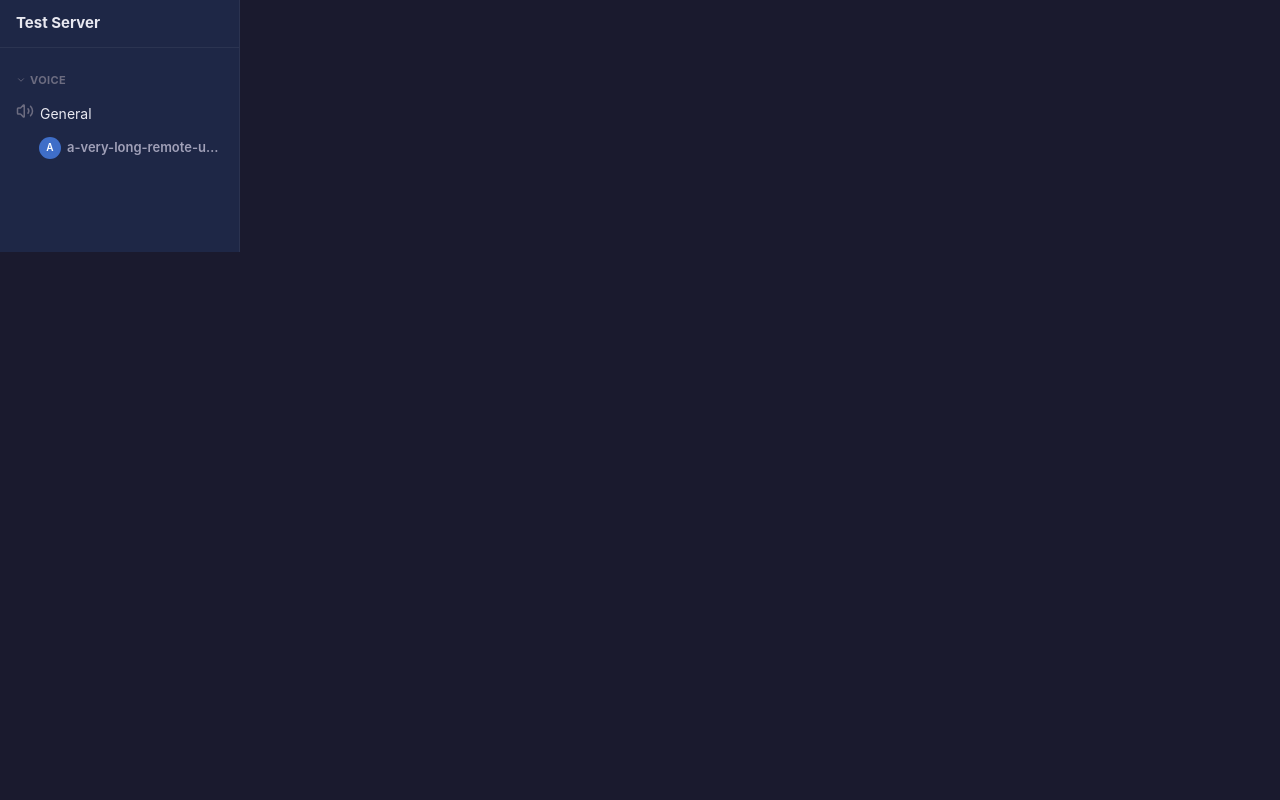
Scenario: ChannelSidebar voice media presence › opens the shared profile dialog and its member actions from a voice participant context menu
Step 1. Right-click the text "a-very-long-remote-username" → (146, 148), box [67,138,224,157]
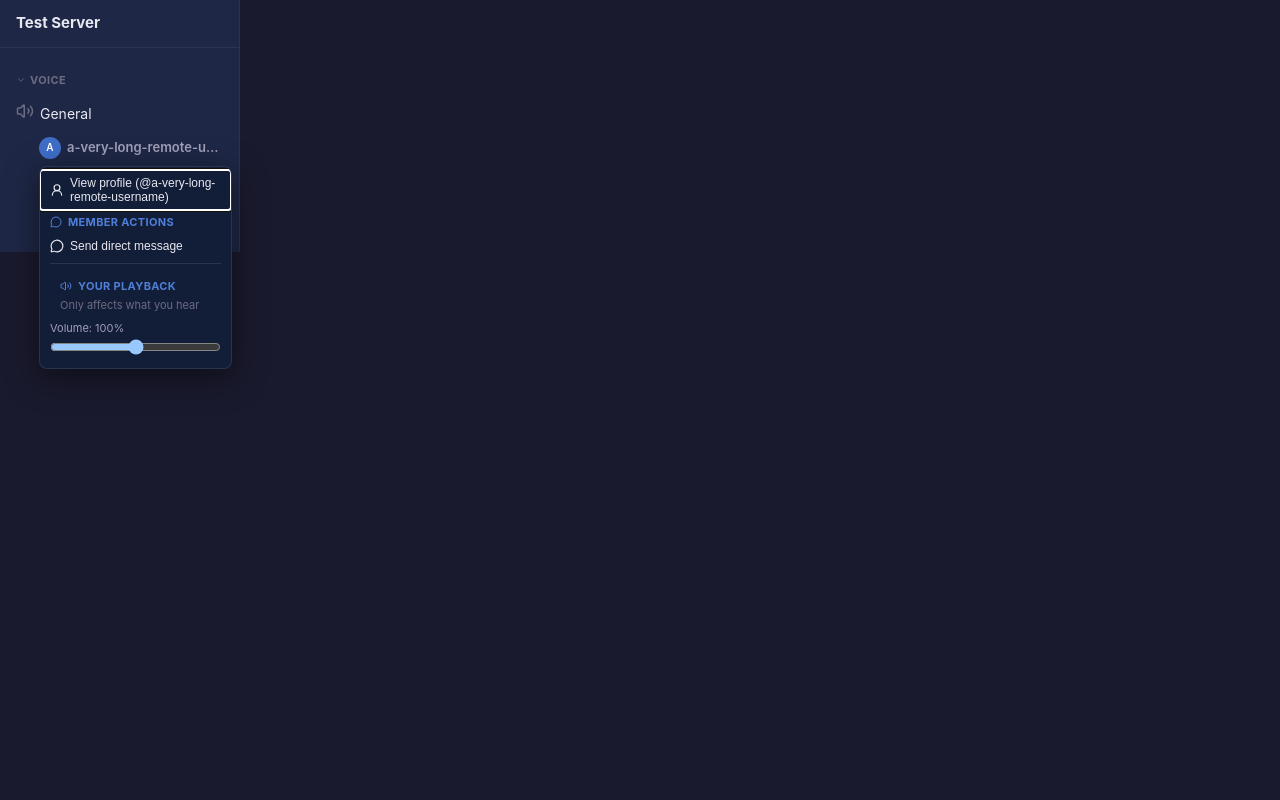
Step 2. Press ArrowDown in the button "View profile (@a-very-long-remote-username)", box [40,170,231,210]
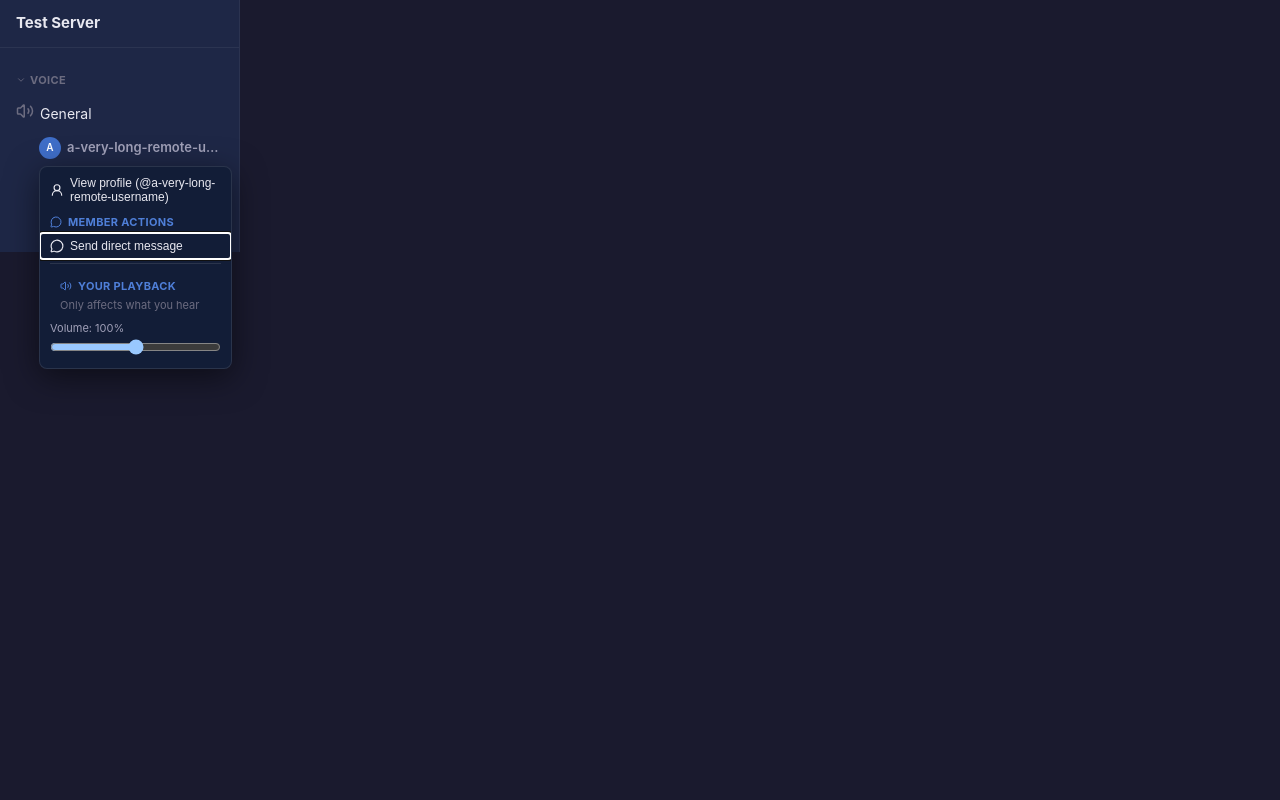
Step 3. Press Home in the button "Send direct message", box [40,233,231,259]
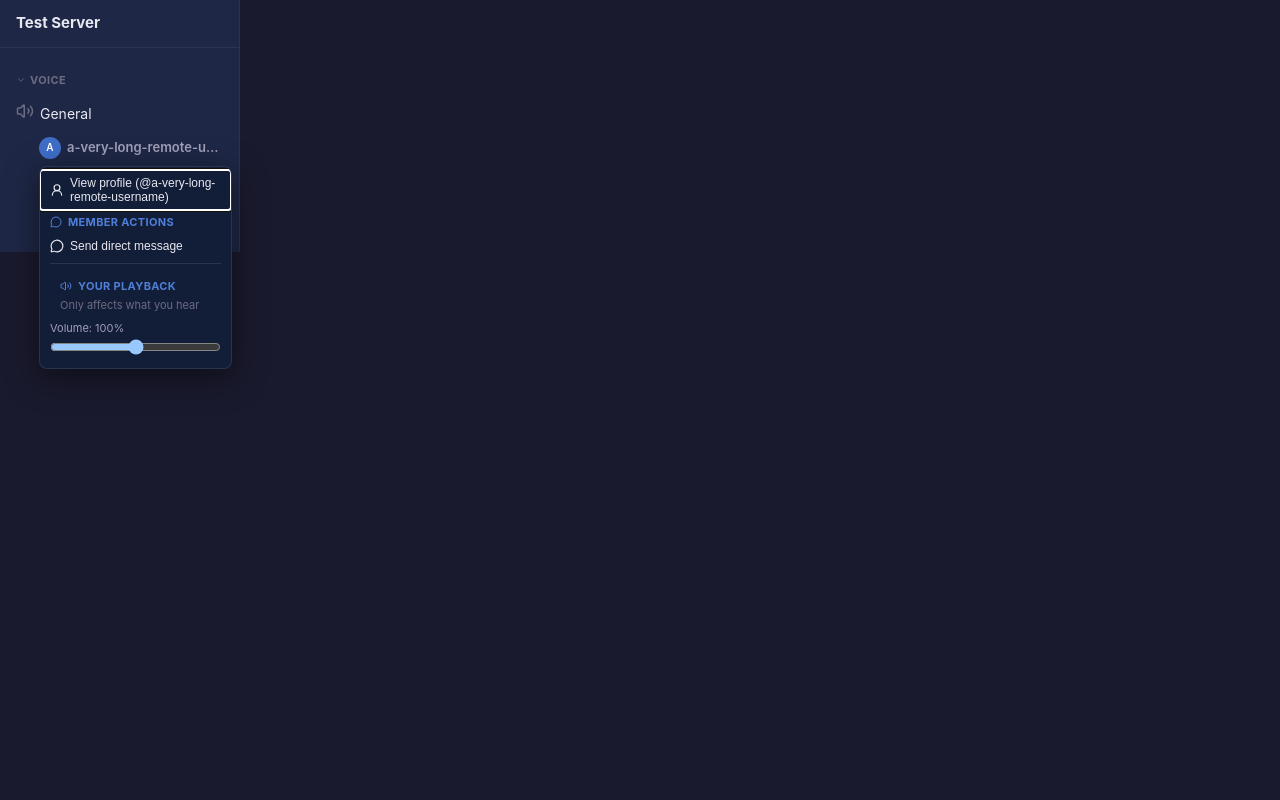
Step 4. Click the button "View profile (@a-very-long-remote-username)" → (136, 190), box [40,170,231,210]
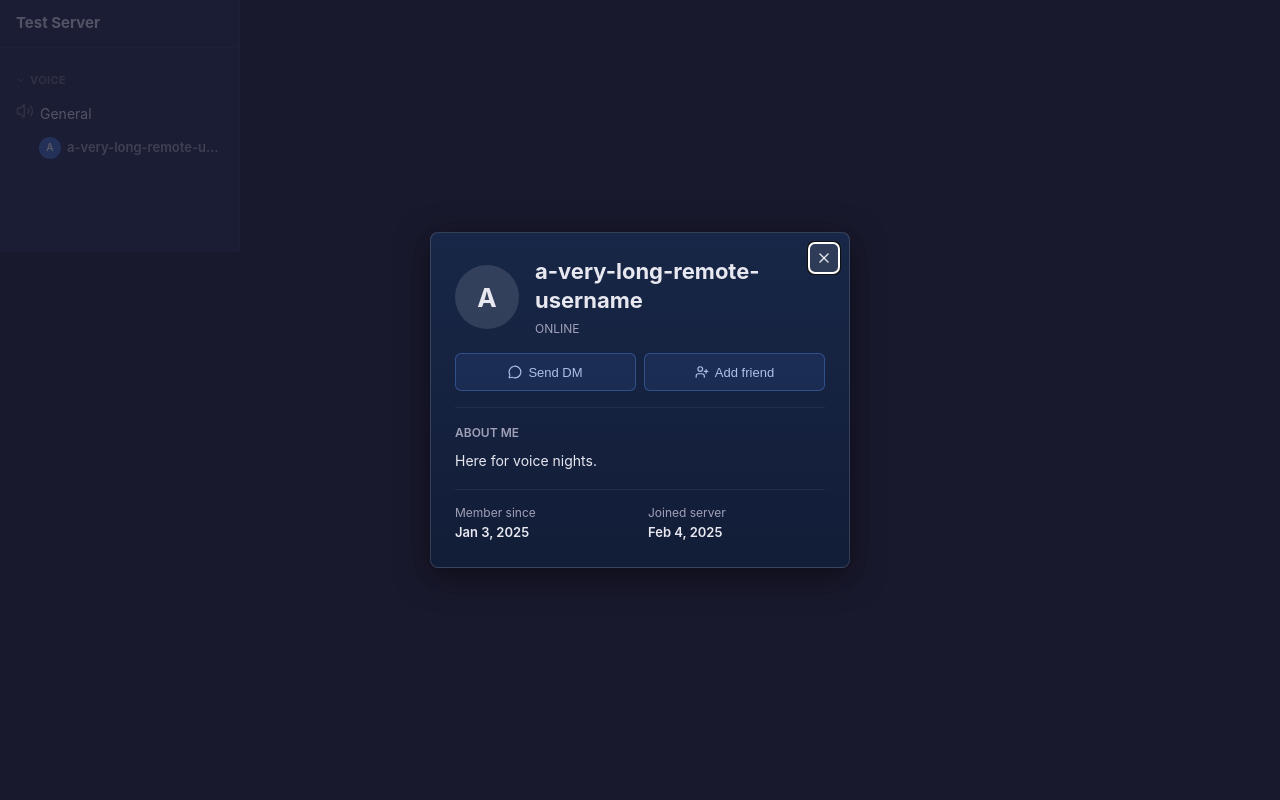
Result: the dialog "a-very-long-remote-username" is shown at [430,232,850,568]
Result: the text "Here for voice nights." is shown at [455,452,597,469]
Step 5. Click the button "Send DM" → (546, 372), box [455,353,636,391]
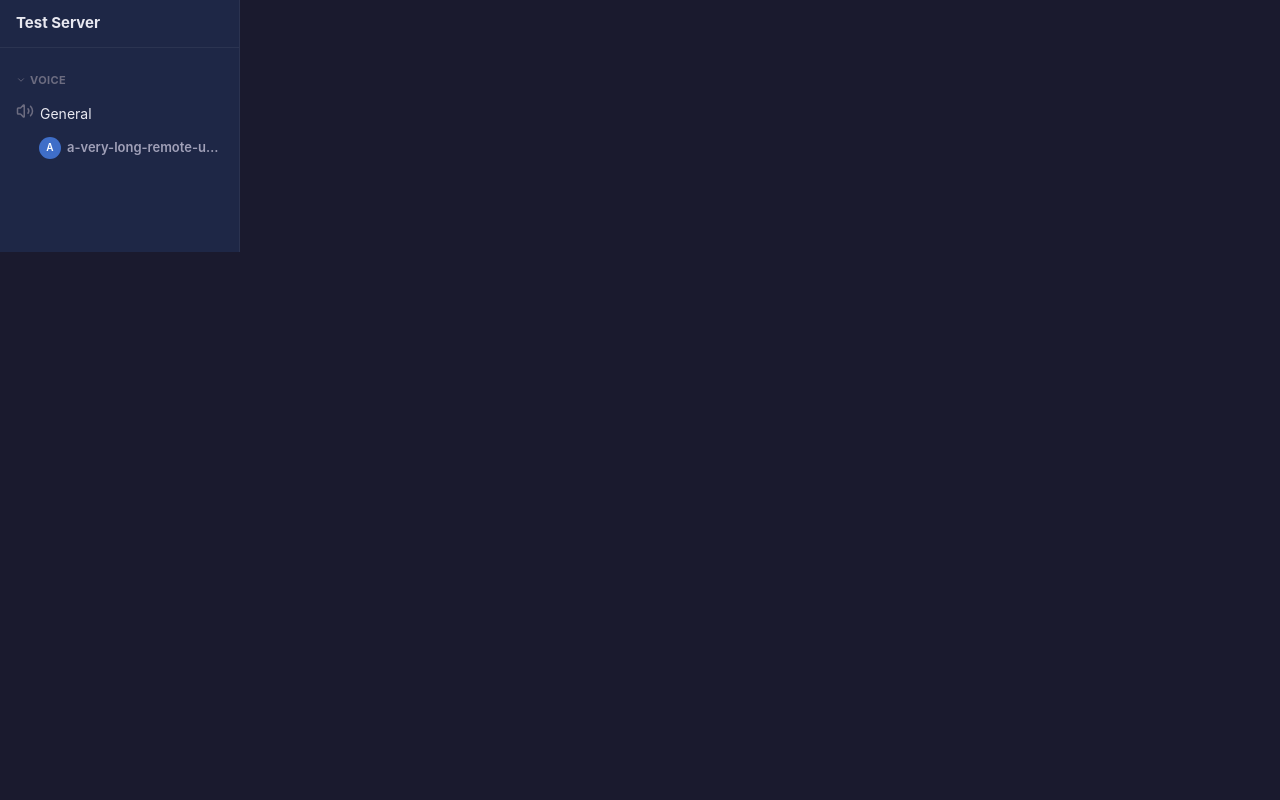
Result: the dialog is gone
